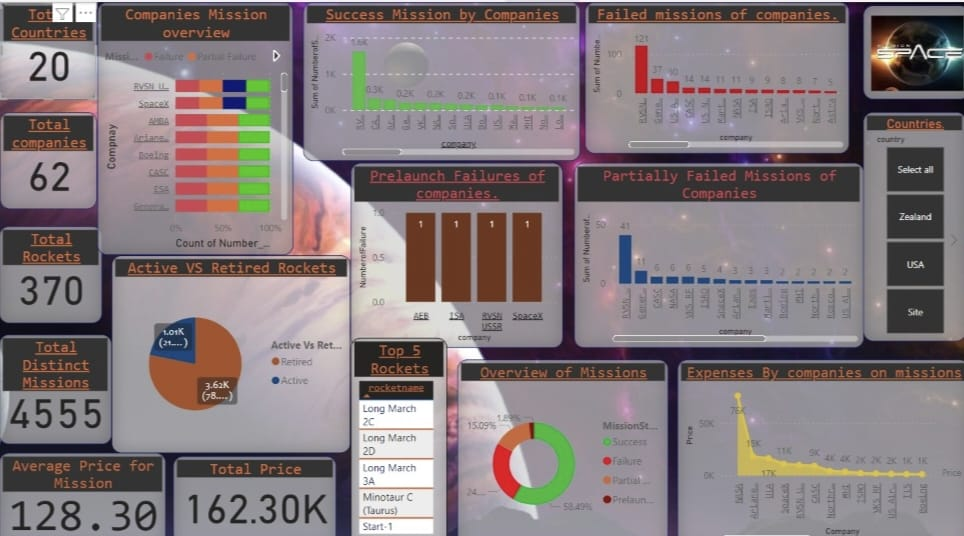

The page's visual inventory and layout, read from the dashboard file:
{"tool":"powerbi","page":{"name":"Space_Report","canvas":[1280,720],"ordinal":0},"visuals":[{"type":"card","title":"Total Countries","fields":{"Values":["CountNonNull(country.country)"]},"box":[1.1,0,127.5,128.6],"z":0},{"type":"card","title":"Total Distinct Missions","fields":{"Values":["CountNonNull(Mission.MissionName)"]},"box":[0,438.4,148.5,144.4],"z":1000},{"type":"card","title":"Total companies","fields":{"Values":["CountNonNull(Company.CompanyName)"]},"box":[1,145.5,128.3,128.3],"z":2000},{"type":"card","title":"Total Rockets","fields":{"Values":["Count(Rockets.RocketName)"]},"box":[0,296,136.4,128.3],"z":3000},{"type":"image","box":[1140.1,4.8,140.4,123.8],"z":4000},{"type":"pieChart","title":"Active VS Retired Rockets","fields":{"Category":["space_missions.RocketStatus"],"Y":["CountNonNull(space_missions.Rocket)"]},"box":[148.8,334.4,315.4,260.6],"z":5000},{"type":"clusteredColumnChart","title":"Success Mission by Companies","fields":{"Category":["companywithsuccess.company"],"Y":["Sum(companywithsuccess.NumberofSuccess)"]},"box":[401.1,0,365.4,209.5],"z":6000},{"type":"columnChart","title":"Failed missions of companies.","fields":{"Category":["companywithFailure.company"],"Y":["Sum(companywithFailure.NumberofFailure)"]},"box":[772.4,0,348.7,199.9],"z":7000},{"type":"columnChart","title":"Partially Failed Missions of Companies","fields":{"Y":["Sum(companywithPartialfail.NumberofFailure)"],"Category":["companywithPartialfail.company"]},"box":[758.1,211.8,382,244],"z":8000},{"type":"columnChart","title":"Prelaunch Failures of companies.","fields":{"Category":["companywithPreLaunchFail.company"],"Y":["Sum(companywithPreLaunchFail.NumberofFailure)"]},"box":[464.1,211.8,279.7,244],"z":9000},{"type":"donutChart","title":"Overview of Missions","fields":{"Y":["Count(successinfo.Number_of_Status)"],"Category":["successinfo.MissionStatus"]},"box":[604.6,471.3,278.5,248.7],"z":10000},{"type":"areaChart","title":"Expenses By companies on missions","fields":{"Category":["space_missions.Company"],"Y":["Sum(space_missions.Price)"]},"box":[894.3,471.4,385.7,248.6],"z":11000},{"type":"card","title":"Average Price for Mission","fields":{"Values":["Avg(space_missions.Price)"]},"box":[0,595,220,125],"z":12000},{"type":"tableEx","title":"Top 5 Rockets","fields":{"Values":["top5activerocket.rocketname"]},"box":[464.1,442.7,127.3,277.3],"z":13000},{"type":"hundredPercentStackedBarChart","title":"Companies Mission overview","fields":{"Y":["Count(successinfo.Number_of_Status)"],"Category":["successinfo.Compnay"],"Series":["successinfo.MissionStatus"]},"box":[129.7,0,258.2,333.2],"z":14000},{"type":"card","title":"Total Price","fields":{"Values":["Sum(space_missions.Price)"]},"box":[229.7,598.6,215.4,121.4],"z":15000},{"type":"slicer","title":"Countries.","fields":{"Values":["country.country"]},"box":[1140.1,145.2,135.7,302.3],"z":16000}]}

Visuals, with their boxes in screenshot pixels (x1, y1, x2, y2), scaled from the page's 1280x720 canvas onto the 964x536 screenshot:
"Total Countries" card: detection(1, 0, 97, 96)
"Total Distinct Missions" card: detection(0, 326, 112, 434)
"Total companies" card: detection(1, 108, 97, 204)
"Total Rockets" card: detection(0, 220, 103, 316)
image: detection(859, 4, 963, 96)
"Active VS Retired Rockets" pieChart: detection(112, 249, 350, 443)
"Success Mission by Companies" clusteredColumnChart: detection(302, 0, 577, 156)
"Failed missions of companies." columnChart: detection(582, 0, 844, 149)
"Partially Failed Missions of Companies" columnChart: detection(571, 158, 859, 339)
"Prelaunch Failures of companies." columnChart: detection(350, 158, 560, 339)
"Overview of Missions" donutChart: detection(455, 351, 665, 535)
"Expenses By companies on missions" areaChart: detection(674, 351, 963, 535)
"Average Price for Mission" card: detection(0, 443, 166, 535)
"Top 5 Rockets" tableEx: detection(350, 330, 445, 535)
"Companies Mission overview" hundredPercentStackedBarChart: detection(98, 0, 292, 248)
"Total Price" card: detection(173, 446, 335, 535)
"Countries." slicer: detection(859, 108, 961, 333)
